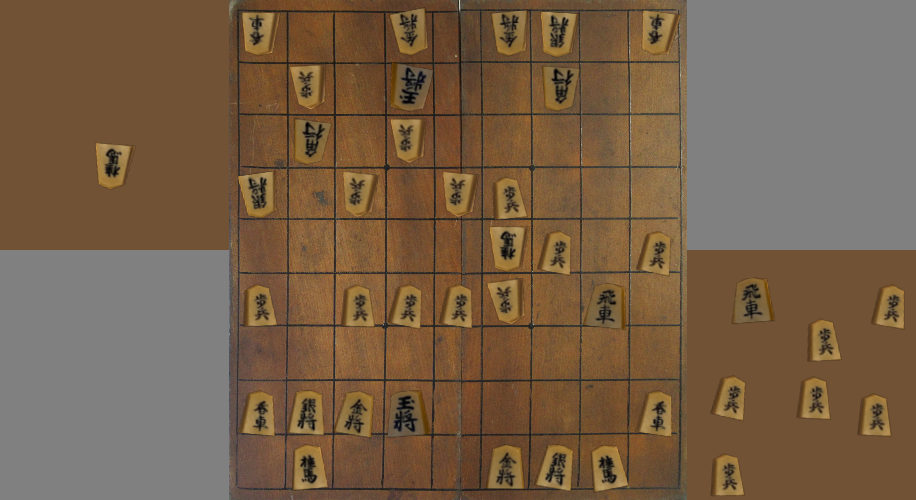A: (389, 392, 427, 437), (585, 284, 623, 328), (537, 446, 573, 490), (337, 392, 372, 437), (592, 446, 627, 491), (487, 446, 523, 488), (294, 445, 327, 490), (290, 391, 322, 434), (640, 392, 671, 435), (638, 233, 669, 275), (245, 285, 276, 326), (243, 393, 273, 435), (391, 286, 421, 328), (495, 178, 526, 218), (442, 286, 471, 327), (541, 233, 570, 274), (344, 286, 373, 326)
B: (391, 64, 431, 110), (391, 9, 427, 54), (490, 227, 526, 270), (643, 12, 679, 54), (240, 172, 273, 217), (544, 67, 578, 110), (542, 13, 576, 56), (492, 12, 526, 55), (296, 120, 330, 163), (243, 14, 278, 55), (344, 172, 376, 215), (444, 173, 476, 216), (489, 280, 521, 322), (291, 67, 323, 108), (392, 120, 422, 161)
C: (734, 279, 773, 323), (713, 377, 745, 420), (859, 395, 891, 436), (873, 286, 904, 328), (713, 455, 744, 496), (809, 320, 840, 361), (800, 378, 829, 419)
D: (97, 144, 133, 188)
